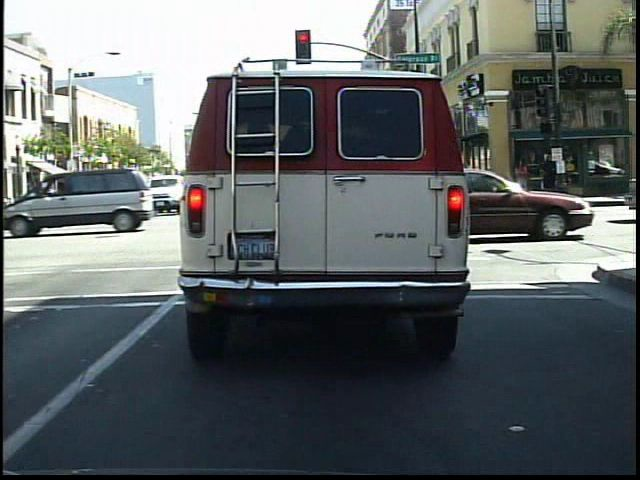person: (538, 152, 562, 196), (513, 156, 534, 189)
